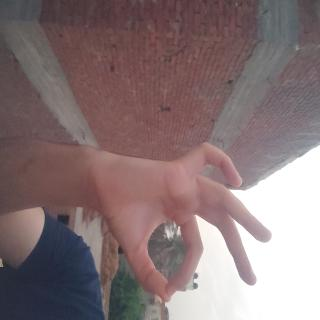Space: (105, 59, 225, 317)
